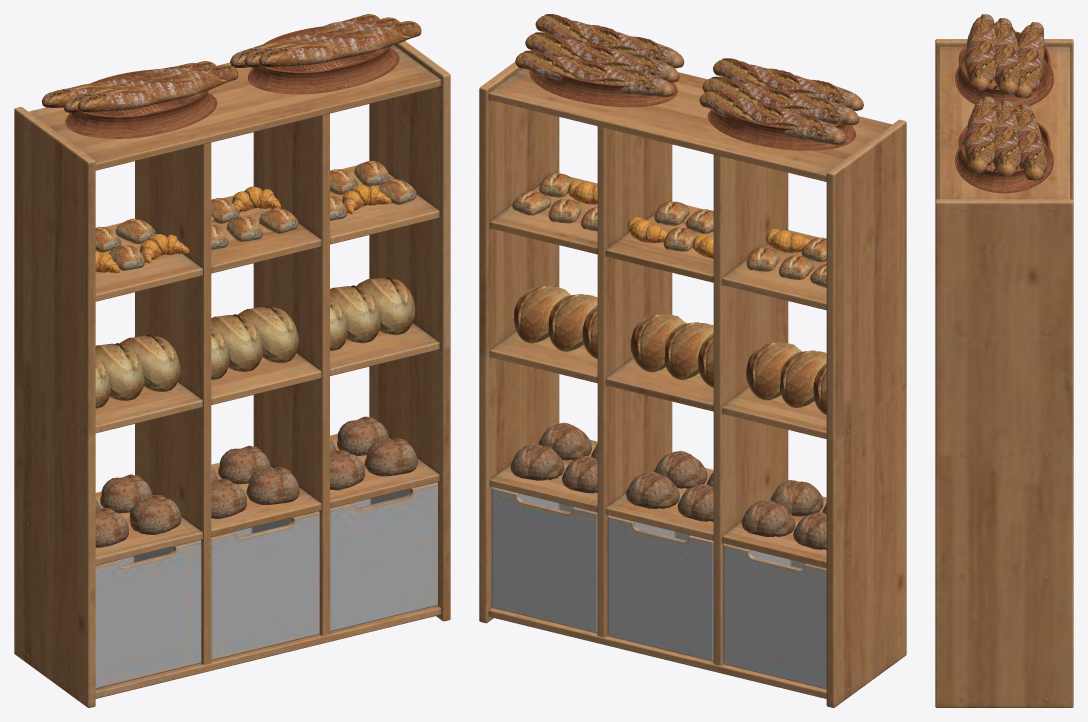
File: bread_shelf.glb
The picture shows the model from 3 angles, left to right: view 1: azimuth 30°, elevation 25°; view 2: azimuth 150°, elevation 25°; view 3: azimuth 270°, elevation 25°; orthographic projection. The views are drawn at different scales.
Parts seen in each view (by area): view 1: wooden_display_shelves_01_3_n0, wooden_display_shelves_01_1_n0, wooden_display_shelves_01_2_n0, wooden_display_shelves_01_0_n0, wicker_basket_0_n44, wicker_basket_0_n40, baguette_0_n47, baguette_0_n43, bread_loaf_0_n7, bread_loaf_0_n20, bread_loaf_0_n33, bread_loaf_0_n19 (+26 smaller); view 2: wooden_display_shelves_01_3_n0, wooden_display_shelves_01_2_n0, wooden_display_shelves_01_1_n0, wooden_display_shelves_01_0_n0, baguette_0_n45, baguette_0_n41, baguette_0_n42, baguette_0_n46, baguette_0_n43, baguette_0_n47, wicker_basket_0_n40, wicker_basket_0_n44 (+23 smaller); view 3: wooden_display_shelves_01_3_n0, wicker_basket_0_n44, baguette_0_n47, baguette_0_n43, wicker_basket_0_n40, baguette_0_n41, baguette_0_n46, baguette_0_n45, baguette_0_n42.
Part boxes in pixels (bbox=[...]): wooden_display_shelves_01_3_n0: bbox=[14, 41, 450, 707]; wooden_display_shelves_01_1_n0: bbox=[211, 511, 319, 660]; wooden_display_shelves_01_2_n0: bbox=[330, 482, 437, 631]; wooden_display_shelves_01_0_n0: bbox=[95, 540, 201, 688]; wicker_basket_0_n44: bbox=[248, 26, 399, 94]; wicker_basket_0_n40: bbox=[65, 69, 217, 138]; baguette_0_n47: bbox=[259, 21, 421, 67]; baguette_0_n43: bbox=[77, 64, 238, 112]; bread_loaf_0_n7: bbox=[120, 334, 180, 391]; bread_loaf_0_n20: bbox=[238, 306, 298, 363]; bread_loaf_0_n33: bbox=[357, 277, 415, 335]; bread_loaf_0_n19: bbox=[211, 314, 263, 371]; wooden_display_shelves_01_3_n0: bbox=[479, 50, 906, 707]; wooden_display_shelves_01_2_n0: bbox=[491, 487, 597, 633]; wooden_display_shelves_01_1_n0: bbox=[607, 515, 713, 661]; wooden_display_shelves_01_0_n0: bbox=[723, 543, 826, 689]; baguette_0_n45: bbox=[515, 50, 674, 97]; baguette_0_n41: bbox=[699, 89, 846, 145]; baguette_0_n42: bbox=[702, 76, 859, 125]; baguette_0_n46: bbox=[525, 32, 679, 82]; baguette_0_n43: bbox=[713, 58, 863, 110]; baguette_0_n47: bbox=[535, 14, 684, 68]; wicker_basket_0_n40: bbox=[707, 109, 855, 150]; wicker_basket_0_n44: bbox=[529, 71, 677, 107]; wooden_display_shelves_01_3_n0: bbox=[935, 39, 1073, 707]; wicker_basket_0_n44: bbox=[955, 121, 1053, 193]; baguette_0_n47: bbox=[964, 96, 997, 172]; baguette_0_n43: bbox=[964, 14, 996, 90]; wicker_basket_0_n40: bbox=[955, 29, 1053, 109]; baguette_0_n41: bbox=[1014, 22, 1044, 98]; baguette_0_n46: bbox=[992, 100, 1021, 176]; baguette_0_n45: bbox=[1015, 104, 1046, 180]; baguette_0_n42: bbox=[994, 18, 1020, 94].
Bounding box in the file's own units: 1.18 × 1.82 × 0.4179.
7 materials, 7 textured.
